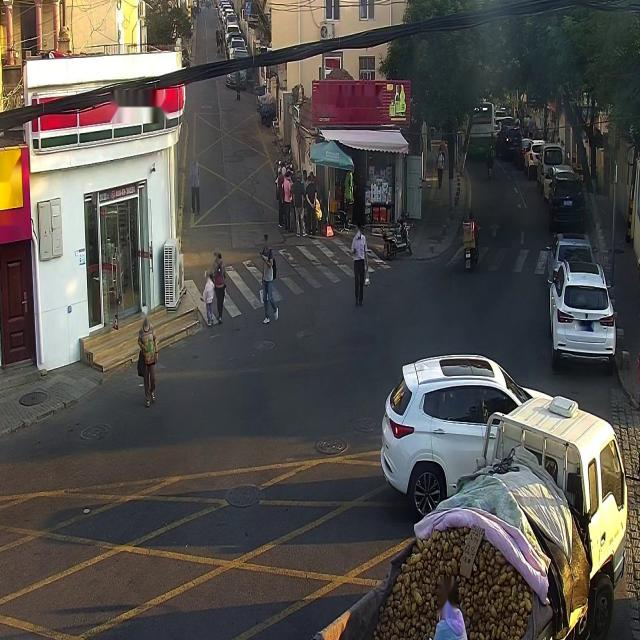car: (306, 397, 640, 640)
fixed_stall: (305, 445, 591, 640)
sunshade: (320, 128, 409, 154), (308, 139, 354, 170)
